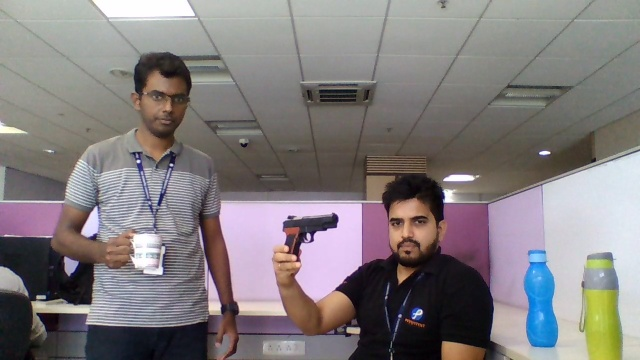gun: (282, 212, 340, 244)
